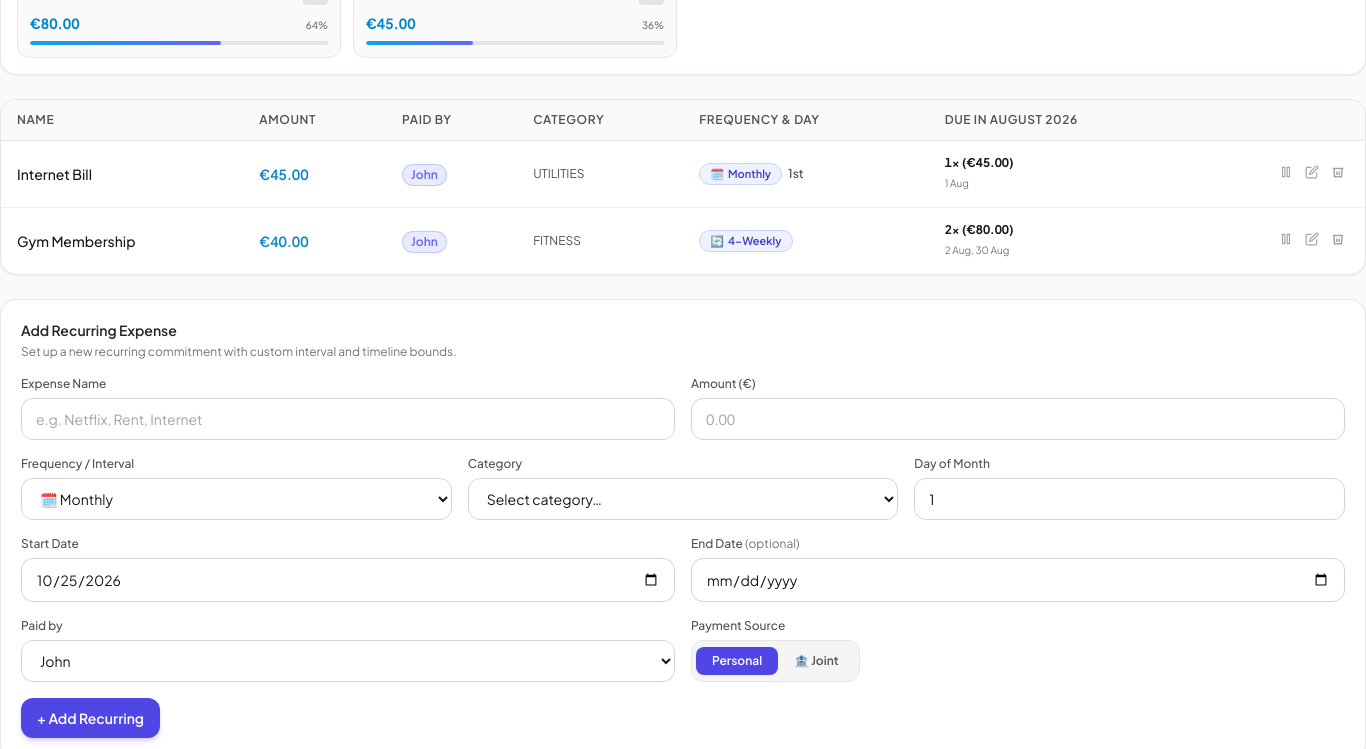
Scenario: RecurringManager.svelte — Recurring Expense Templates & Frequency Intervals › validates form submission fields (Fill in all fields with valid values.)
(page scrolled)
Click the button "+ Add Recurring".
click(90, 718)  # box [21,698,160,738]
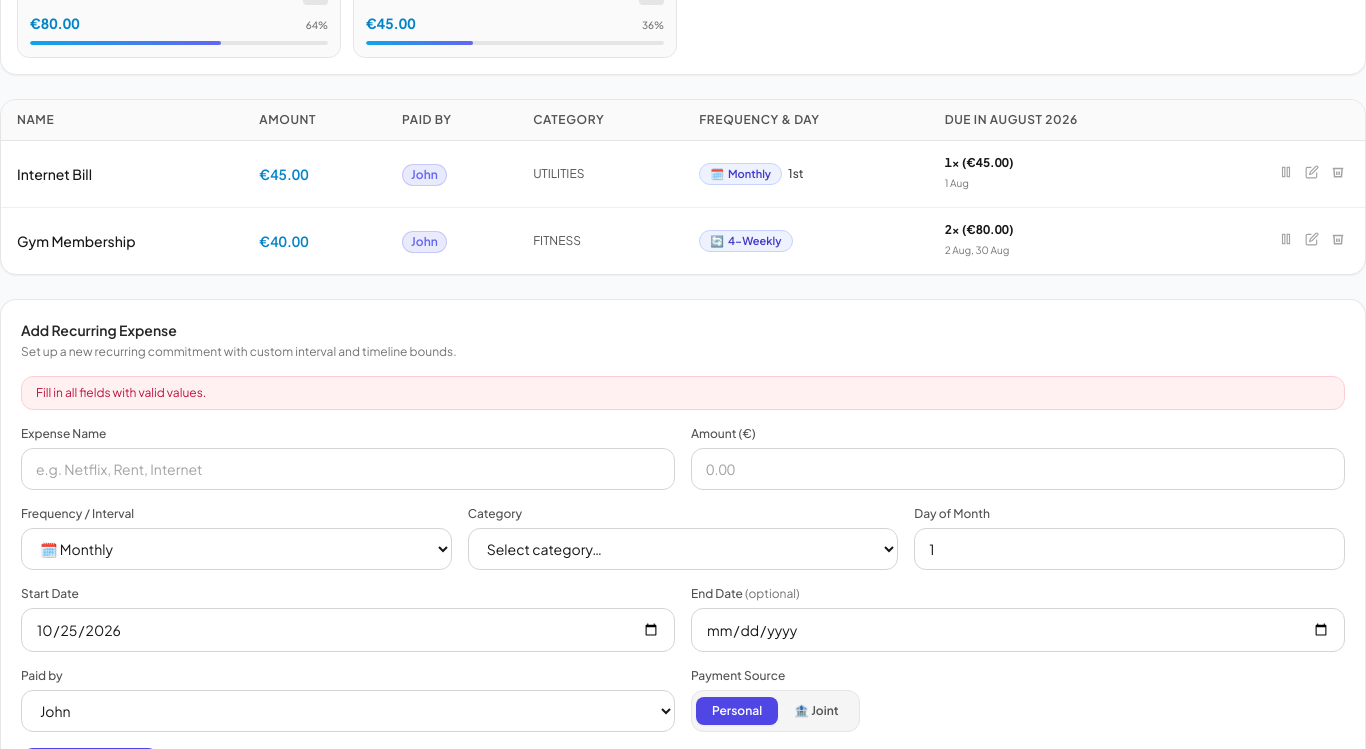
Now the text "Fill in all fields with valid values." is shown, box [21,376,1345,410]
